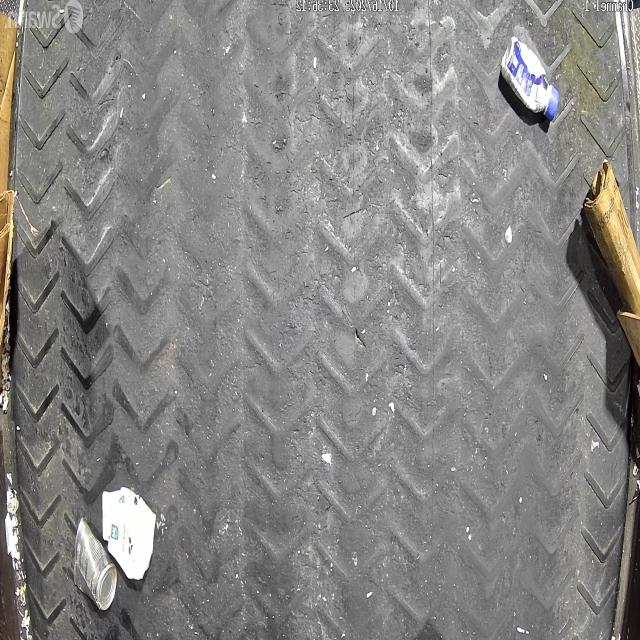can: (72, 516, 118, 612)
